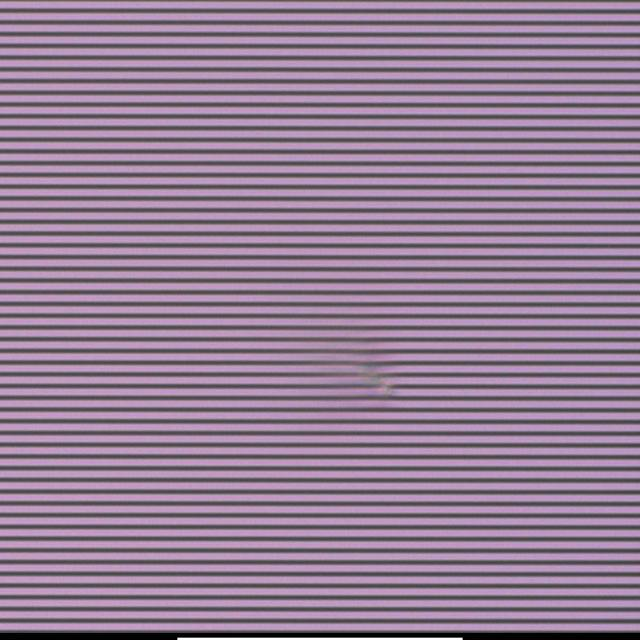nonvisual: (374, 378, 398, 407)
